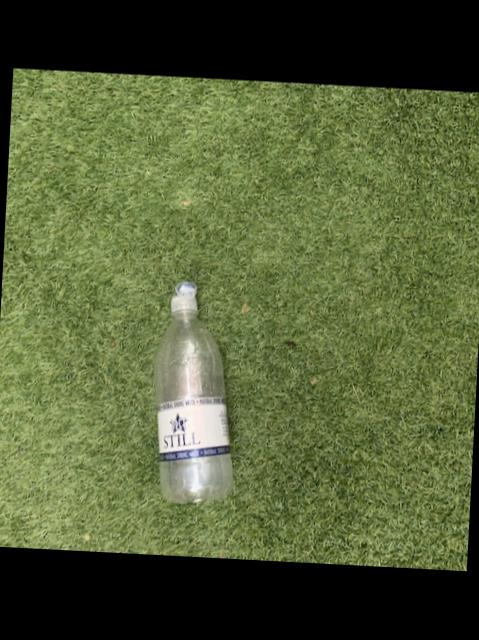plastic: (151, 284, 229, 505)
